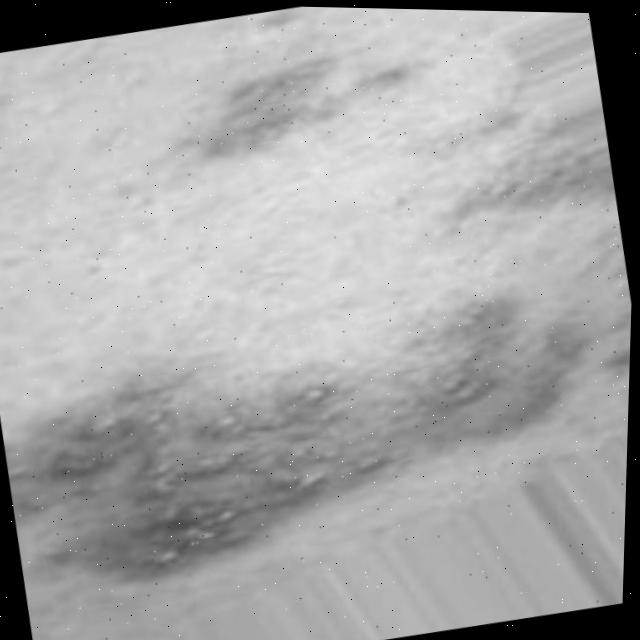Shingles: (0, 264, 608, 611), (162, 25, 410, 173), (414, 86, 620, 234)
